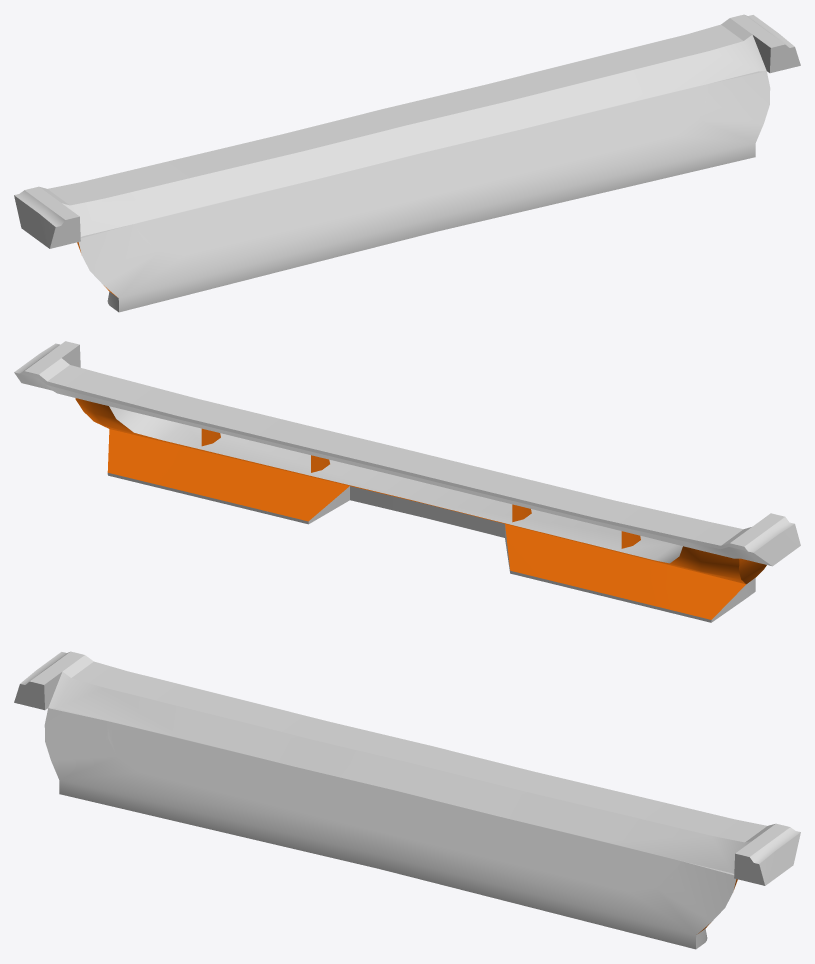
File: Muscle_2_Bumper_F_2.fbx
The picture shows the model from 3 angles, top to bottom: view 1: azimuth 30°, elevation 25°; view 2: azimuth 150°, elevation 25°; view 3: azimuth 330°, elevation 25°; orthographic projection.
Parts seen in each view (by area): view 1: Muscle_2_Bumper_F_2; view 2: Muscle_2_Bumper_F_2; view 3: Muscle_2_Bumper_F_2.
Boxes of the visible parts, bbox=[...] form: Muscle_2_Bumper_F_2: bbox=[14, 14, 800, 312]; Muscle_2_Bumper_F_2: bbox=[14, 341, 800, 622]; Muscle_2_Bumper_F_2: bbox=[14, 651, 800, 949].
Size of the model in its own units: 167 by 23.05 by 20.73.
